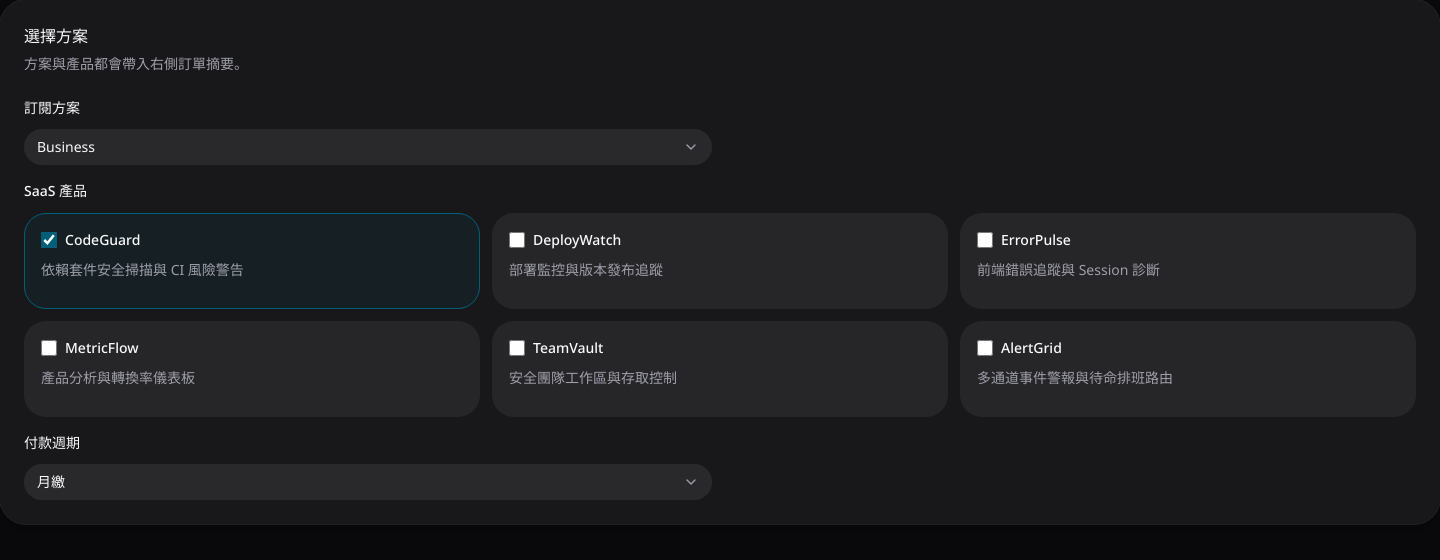
Scenario: 結帳方案選擇 › 沒有訂閱時可以選擇付款週期
Press the mouse on the dropdown named "付款週期" at point(51, 481), box x1=24 y1=464 x2=712 y2=500
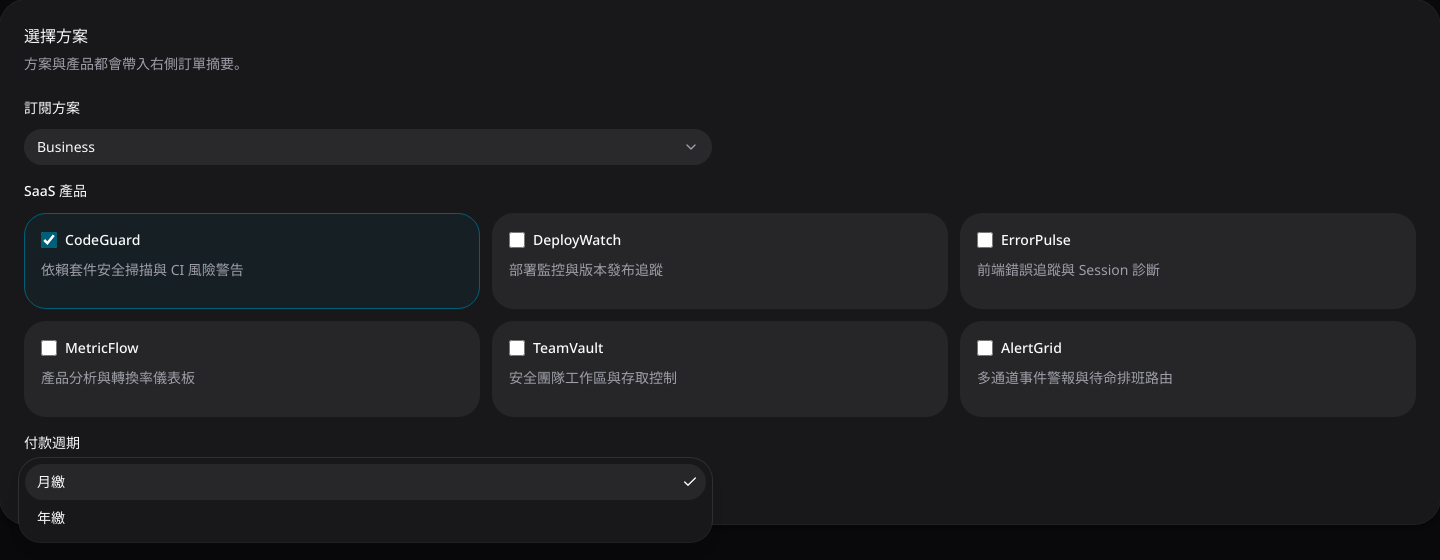
Expected: the option "月繳" is shown, x1=25 y1=464 x2=706 y2=500
Expected: the option "年繳" is shown, x1=37 y1=508 x2=65 y2=527
